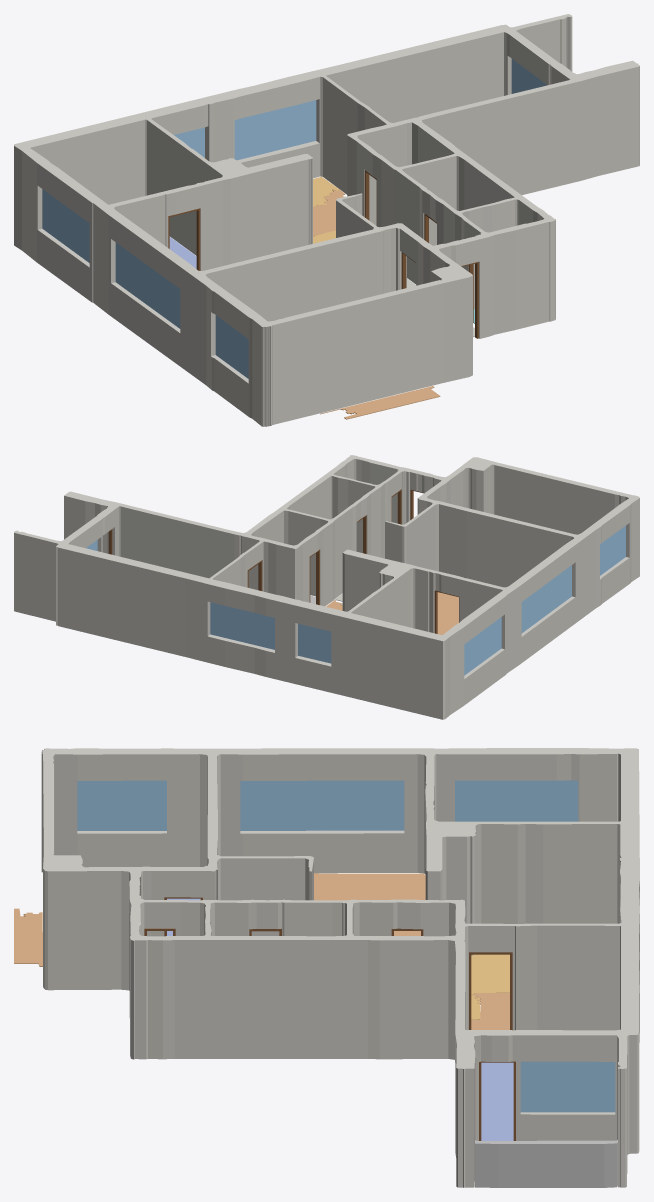
3 renders of one model, top to bottom at view 1: azimuth 30°, elevation 25°; view 2: azimuth 150°, elevation 25°; view 3: azimuth 270°, elevation 25°, orthographic. The views are drawn at different scales.
Parts seen in each view (by area): view 1: walls, window_9, window_12, window_11, window_13, floor_2_Living_Room, floor_3_Living_Room, window_10, floor_1_Kitchen; view 2: walls, window_9, window_12, window_11, window_8, floor_3_Living_Room, window_13; view 3: walls, window_12, railings, window_11, window_10, window_13, floor_3_Living_Room, floor_5_Bed_Room, floor_1_Kitchen, floor_2_Living_Room.
Boxes of the visible parts, x1,y1,x2,y2 form: walls: (14, 14, 639, 426); window_9: (234, 100, 316, 160); window_12: (115, 242, 180, 328); window_11: (42, 189, 89, 262); window_13: (215, 315, 248, 378); floor_2_Living_Room: (320, 386, 440, 419); floor_3_Living_Room: (313, 190, 345, 236); window_10: (511, 59, 546, 93); floor_1_Kitchen: (313, 176, 339, 243); walls: (14, 455, 639, 719); window_9: (210, 602, 274, 649); window_12: (521, 565, 571, 633); window_11: (464, 617, 501, 675); window_8: (298, 623, 331, 663); floor_3_Living_Room: (326, 592, 458, 634); window_13: (600, 526, 625, 575); walls: (41, 748, 639, 1187); window_12: (240, 780, 404, 830); railings: (475, 1140, 617, 1187); window_11: (455, 780, 578, 821); window_10: (520, 1061, 615, 1112); window_13: (77, 780, 166, 830); floor_3_Living_Room: (314, 873, 509, 1029); floor_5_Bed_Room: (481, 1062, 513, 1140); floor_1_Kitchen: (471, 954, 509, 1019); floor_2_Living_Room: (14, 908, 42, 966).
Size of the model in its own units: 15.65 by 2.72 by 12.89.
